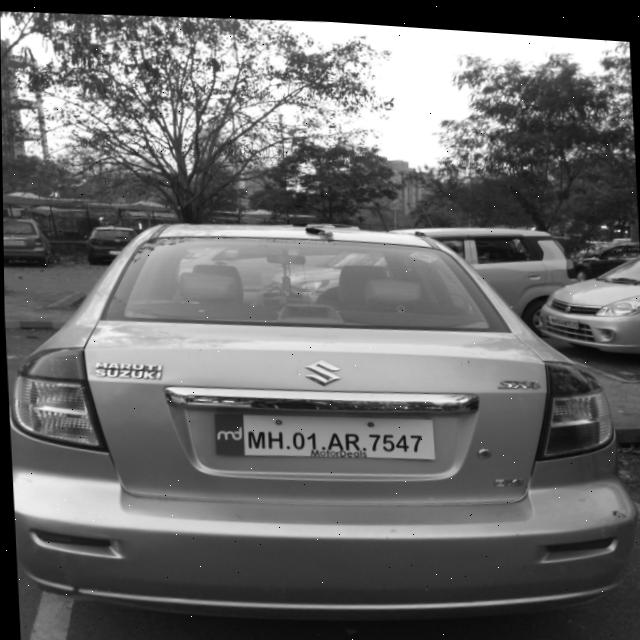car: (2, 195, 640, 636), (210, 398, 440, 464)
